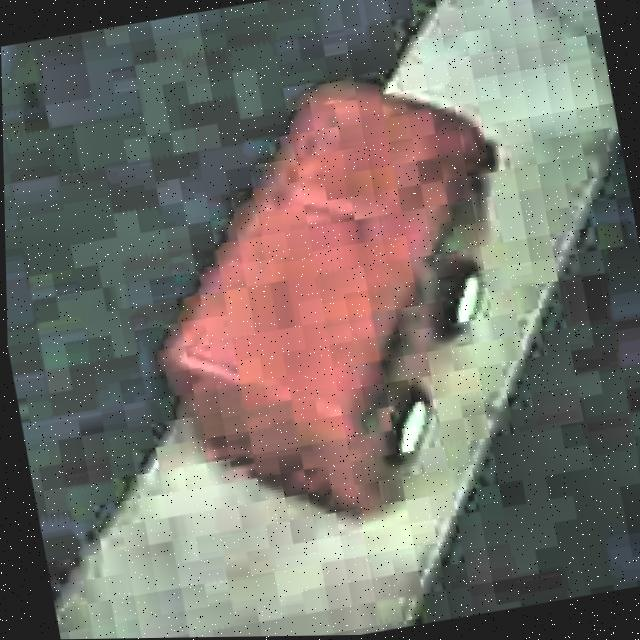bus: (119, 54, 562, 550)
